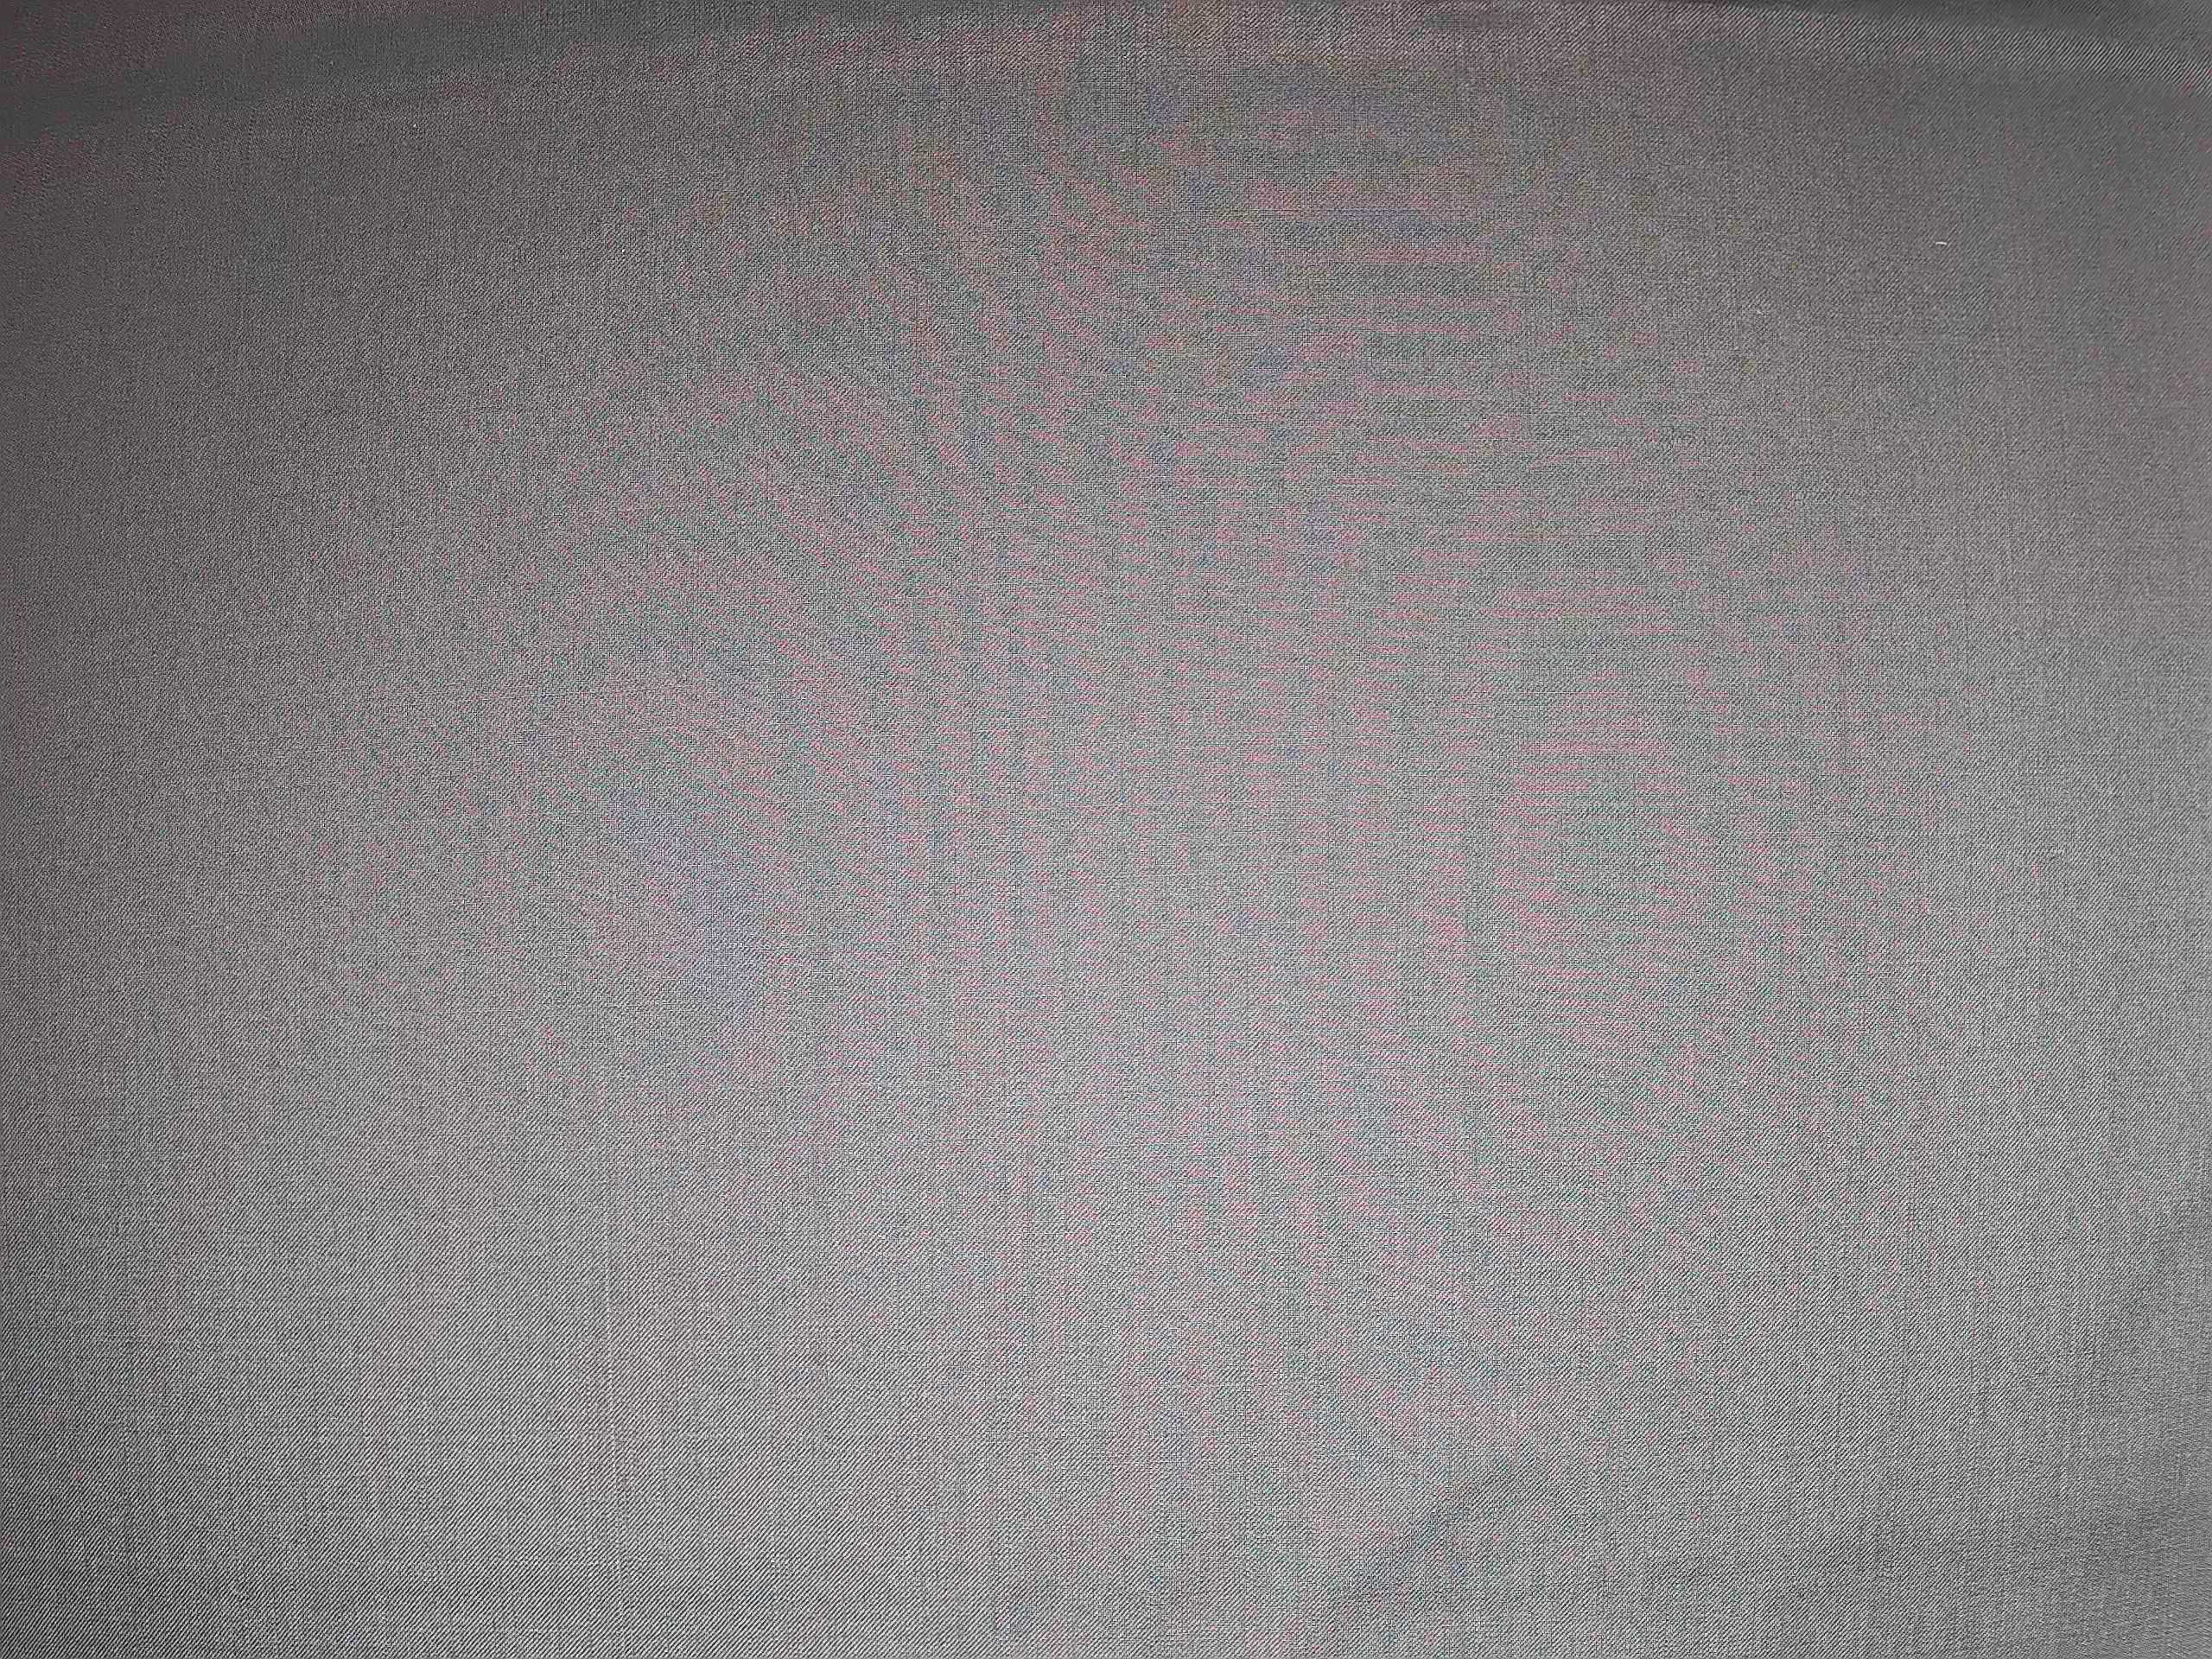others: (590, 1169, 634, 1652)
